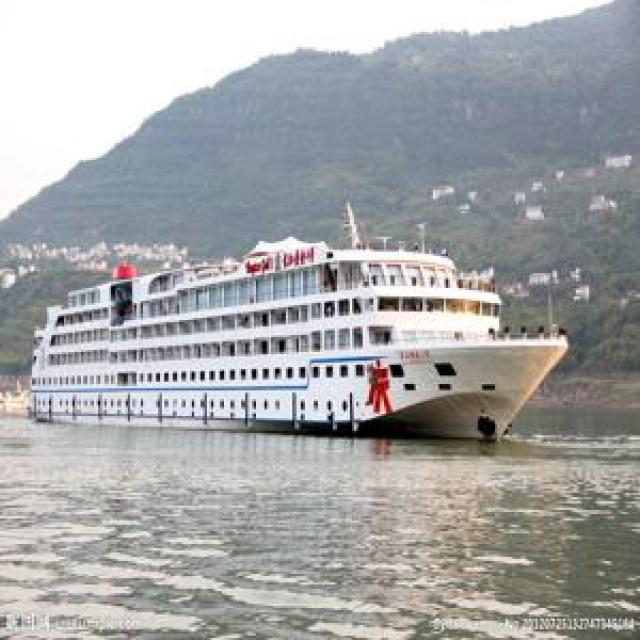passenger ship: (24, 212, 572, 461)
